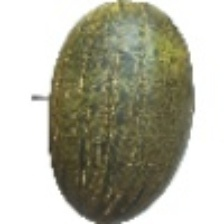honeydew: (31, 21, 170, 205)
